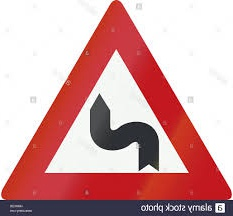Double_bend_left: (1, 1, 233, 200)
